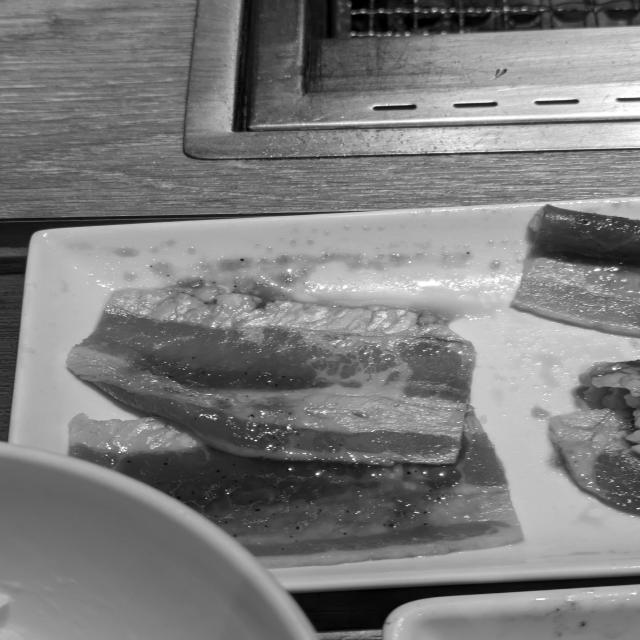NG raw beef,: (61, 385, 553, 574), (53, 282, 478, 466), (491, 202, 640, 347), (547, 354, 640, 518)
